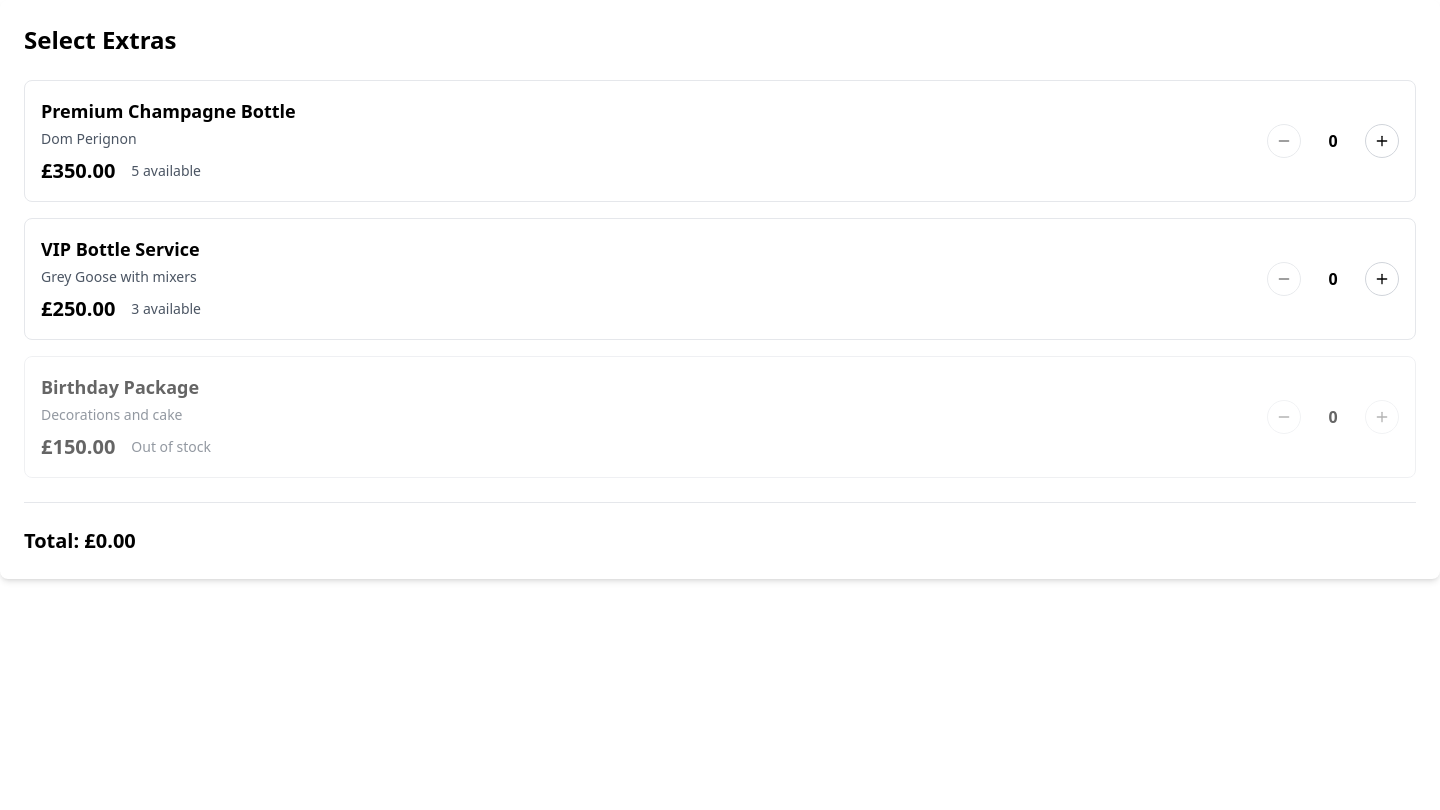
Test: ExtraSelection Component › Total Calculation › should update total when quantities change
Expected: the heading "Premium Champagne Bottle" is shown, [41,99,296,123]
Click the button named "increase quantity".
click(1382, 141)  # box [1365,124,1399,158]
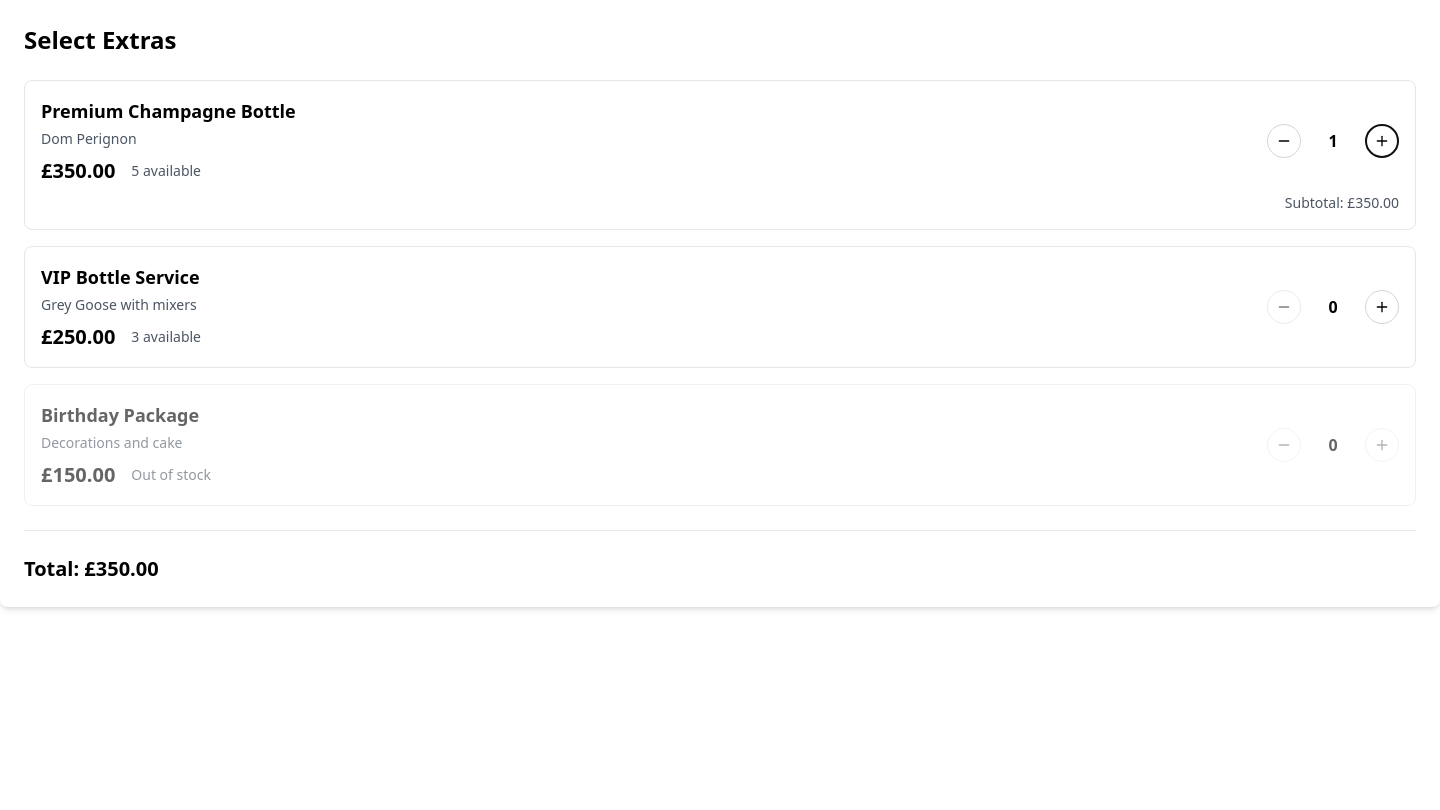
Result: the text "Total: £350.00" is shown at [24,555,159,583]
Click the button named "increase quantity".
click(1382, 307)  # box [1365,290,1399,324]
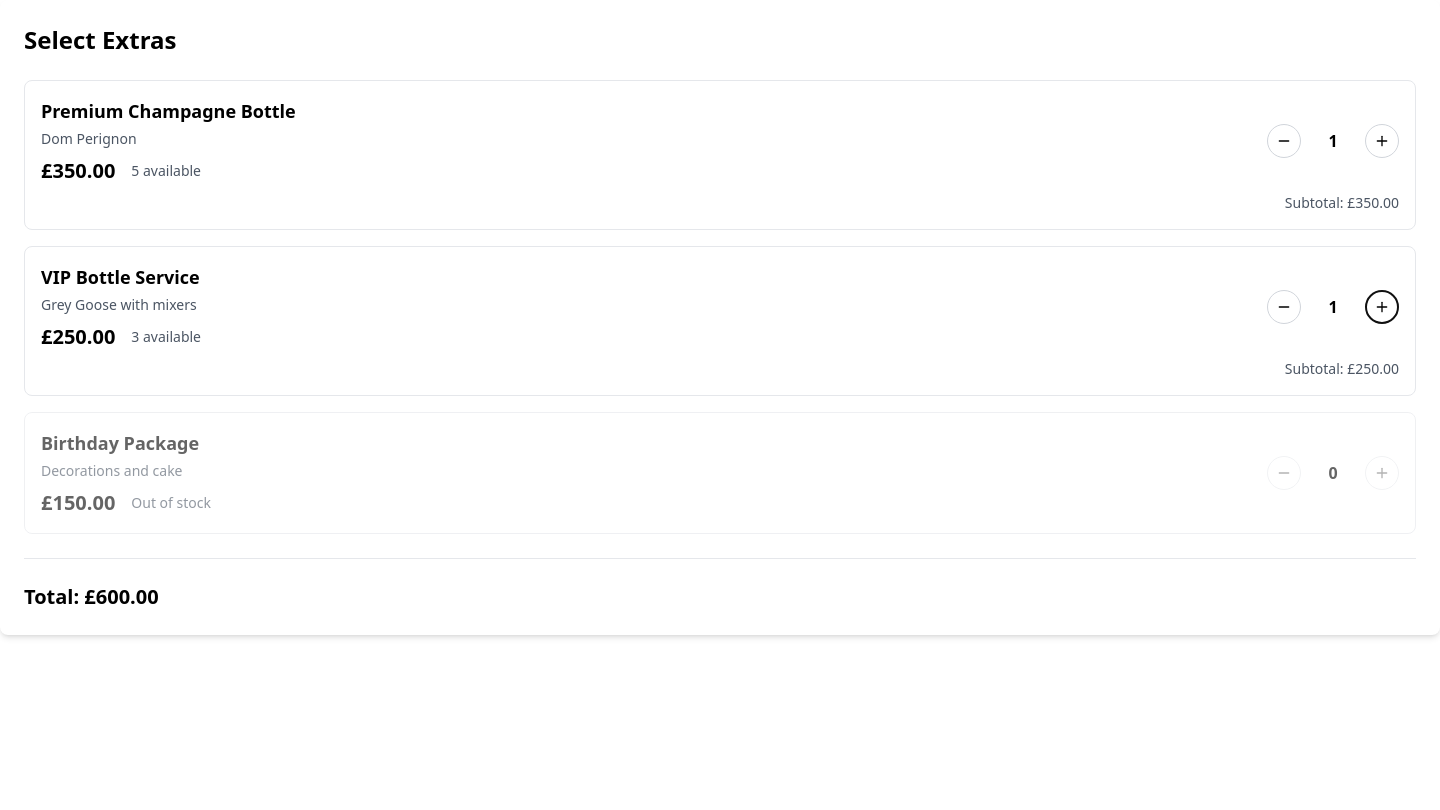
Result: the text "Total: £600.00" is shown at [24,583,159,611]
Click the button named "increase quantity".
click(1382, 141)  # box [1365,124,1399,158]
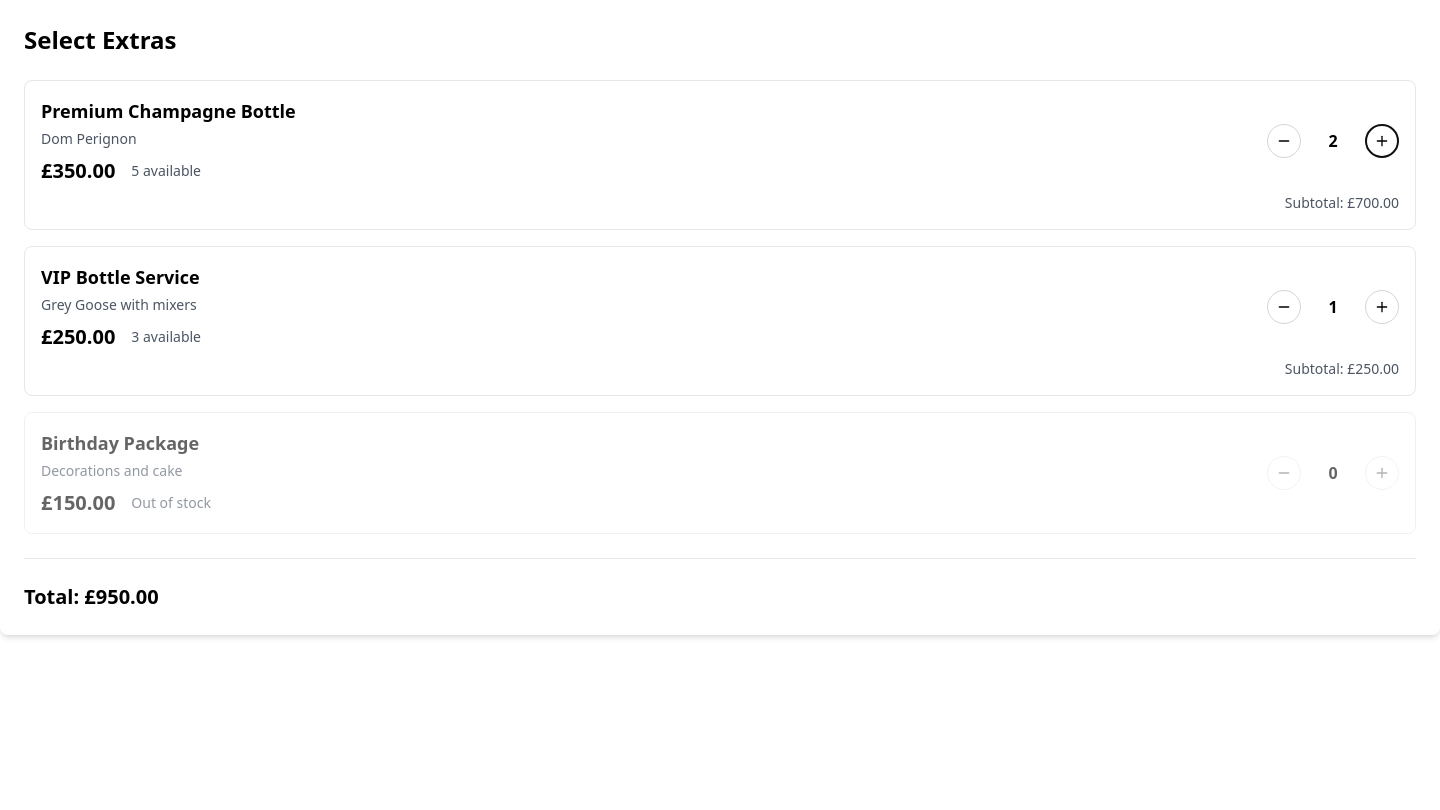
Result: the text "Total: £950.00" is shown at [24,583,159,611]
